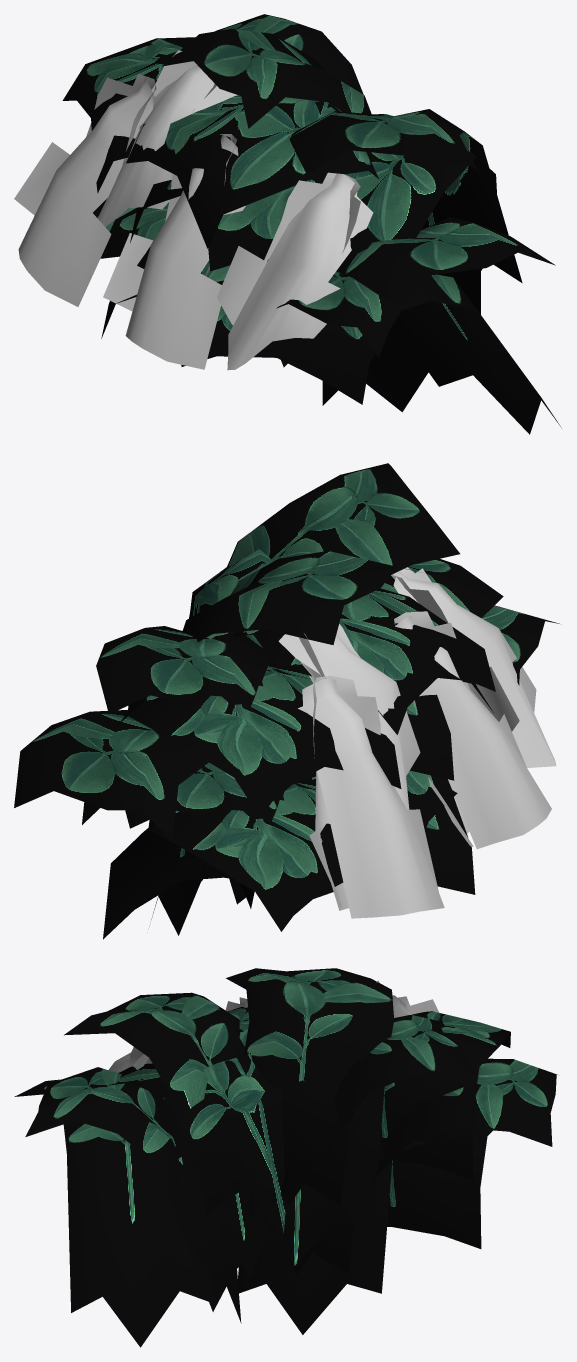
The model's file is Env_Plants_Buckleberry_01.fbx.
The picture shows the model from 3 angles, top to bottom: view 1: azimuth 30°, elevation 25°; view 2: azimuth 150°, elevation 25°; view 3: azimuth 270°, elevation 25°; orthographic projection. The views are drawn at different scales.
Visible parts, largest first — view 1: Plane.198, Plane.206, Plane.197, Plane.211, Plane.209, Plane.204, Plane.199, Plane.207, Plane.201, Plane.213, Plane.192, Plane.203 (+7 smaller); view 2: Plane.196, Plane.209, Plane.203, Plane.205, Plane.204, Plane.207, Plane.201, Plane.202, Plane.198, Plane.211, Plane.213, Plane.195 (+11 smaller); view 3: Plane.201, Plane.206, Plane.204, Plane.199, Plane.197, Plane.205, Plane.194, Plane.203, Plane.202, Plane.196, Plane.200, Plane.193 (+3 smaller).
Boxes of the visible parts, <box> form: Plane.198: <box>126,95,378,248</box>; Plane.206: <box>276,271,561,434</box>; Plane.197: <box>322,217,555,412</box>; Plane.211: <box>227,173,373,370</box>; Plane.209: <box>18,76,154,306</box>; Plane.204: <box>289,109,522,283</box>; Plane.199: <box>208,114,496,271</box>; Plane.207: <box>125,134,245,369</box>; Plane.201: <box>162,29,371,128</box>; Plane.213: <box>97,65,237,227</box>; Plane.192: <box>181,306,400,404</box>; Plane.203: <box>62,37,194,193</box>; Plane.196: <box>103,780,343,939</box>; Plane.209: <box>298,678,444,918</box>; Plane.203: <box>82,662,401,824</box>; Plane.205: <box>14,709,208,841</box>; Plane.204: <box>227,463,459,574</box>; Plane.207: <box>395,615,551,849</box>; Plane.201: <box>182,551,418,645</box>; Plane.202: <box>96,626,271,714</box>; Plane.198: <box>233,588,495,734</box>; Plane.211: <box>393,571,556,767</box>; Plane.213: <box>278,634,420,809</box>; Plane.195: <box>125,762,284,828</box>; Plane.201: <box>226,968,394,1265</box>; Plane.206: <box>14,1079,208,1347</box>; Plane.204: <box>64,992,268,1278</box>; Plane.199: <box>107,1053,285,1241</box>; Plane.197: <box>25,1067,241,1323</box>; Plane.205: <box>372,1058,557,1180</box>; Plane.194: <box>236,1161,392,1334</box>; Plane.203: <box>380,1011,510,1179</box>; Plane.202: <box>281,1015,478,1205</box>; Plane.196: <box>387,1129,492,1248</box>; Plane.200: <box>175,1079,368,1205</box>; Plane.193: <box>313,1215,354,1273</box>.
Size of the model in its own units: 62.73 by 59.07 by 95.7.
